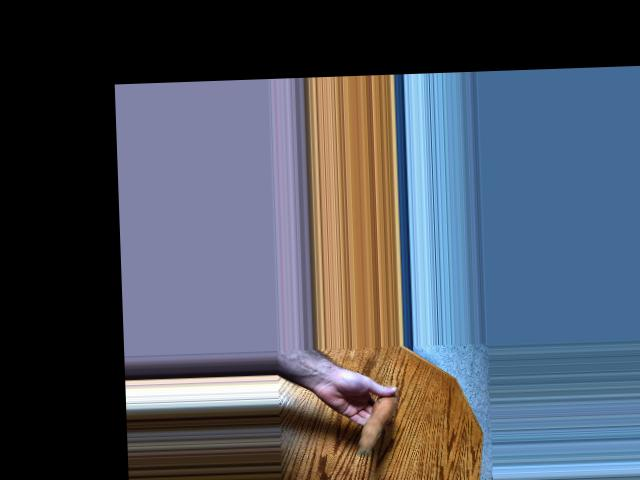sweet_potato: (349, 383, 402, 458)
